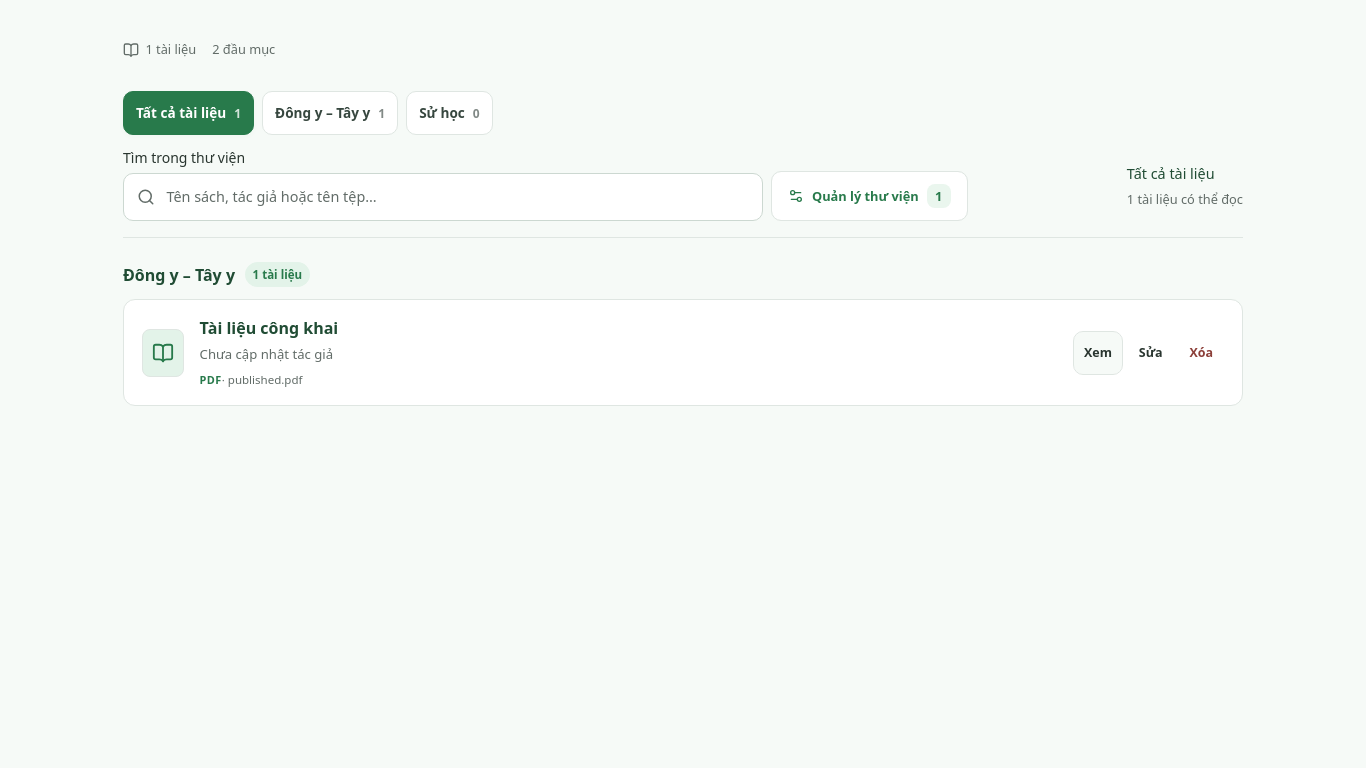
Scenario: LibraryAdminPage › opens categories without leaving the catalog and returns to the tool chooser
Expected: the link "Xem" is shown, [1073,331,1123,375]
Click the button "Quản lý thư viện 1": coordinates (869, 196) [771,171,968,221]
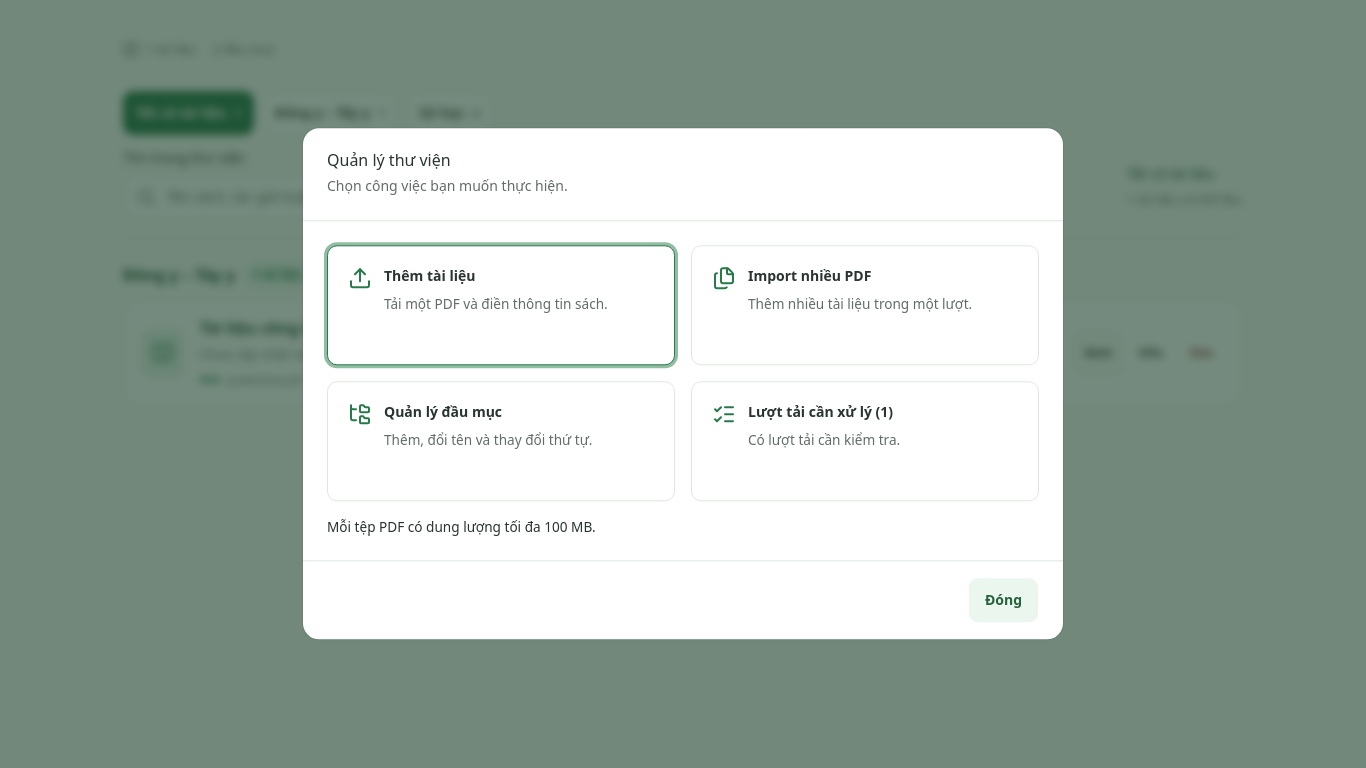
Click the button "Quản lý đầu mục Thêm, đổi tên và thay đổi thứ tự.": coordinates (501, 441) [327,381,675,501]
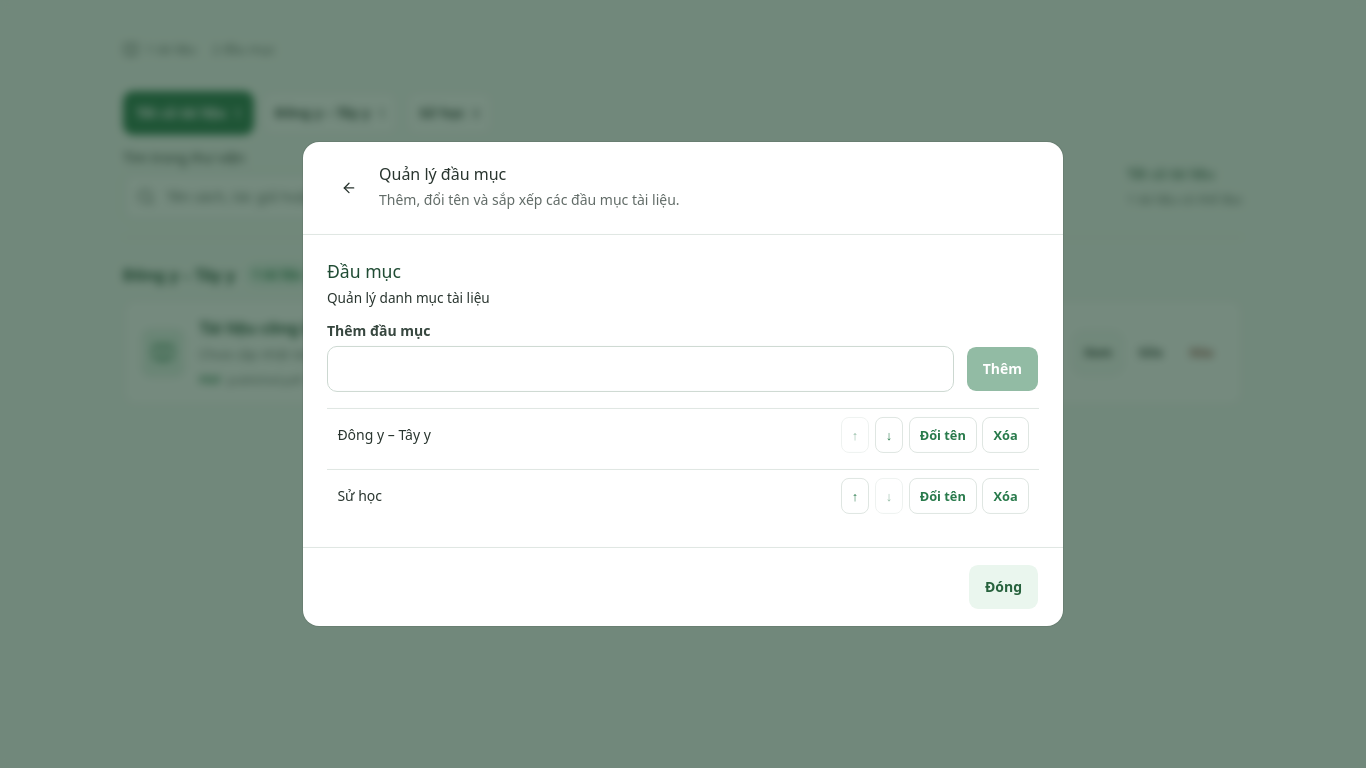
Expected: the dialog "Quản lý đầu mục" is shown, [303,142,1063,626]
In the field labelled "Thêm đầu mục": coordinates (640, 368) [327,346,954,392], type "Phật học"
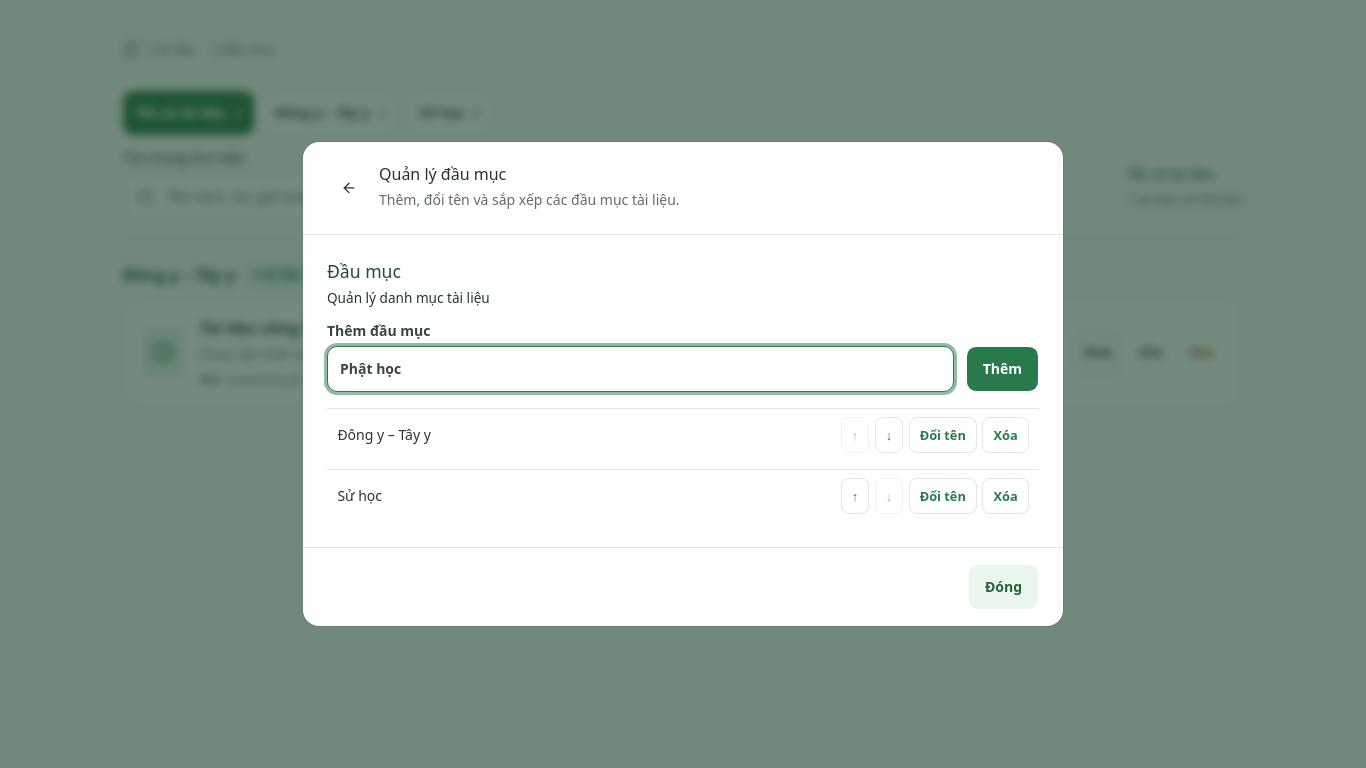
Click the button "Thêm": coordinates (1002, 368) [966,346,1039,392]
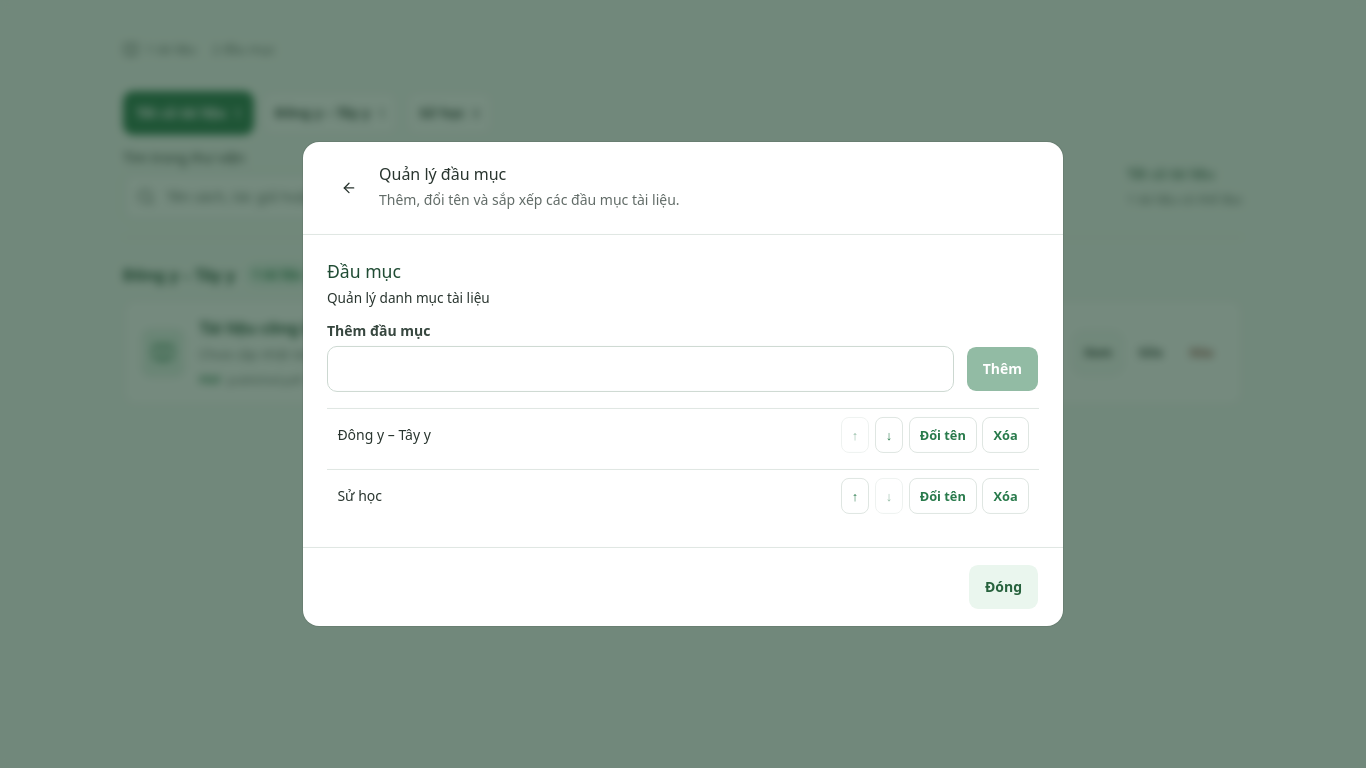
Click the button named "Quay lại quản lý thư viện": coordinates (349, 188) [327,166,371,210]
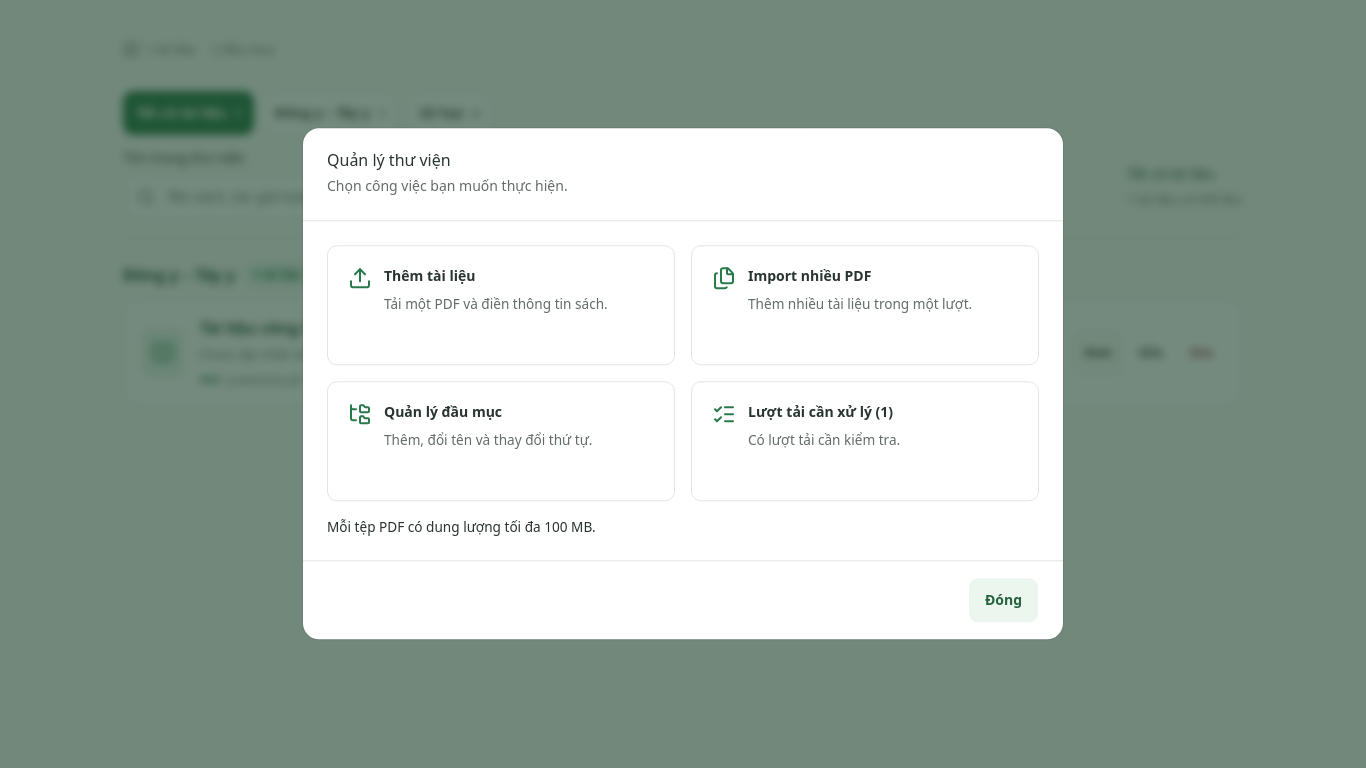
Expected: the dialog "Quản lý thư viện" is shown, [303,128,1063,640]
